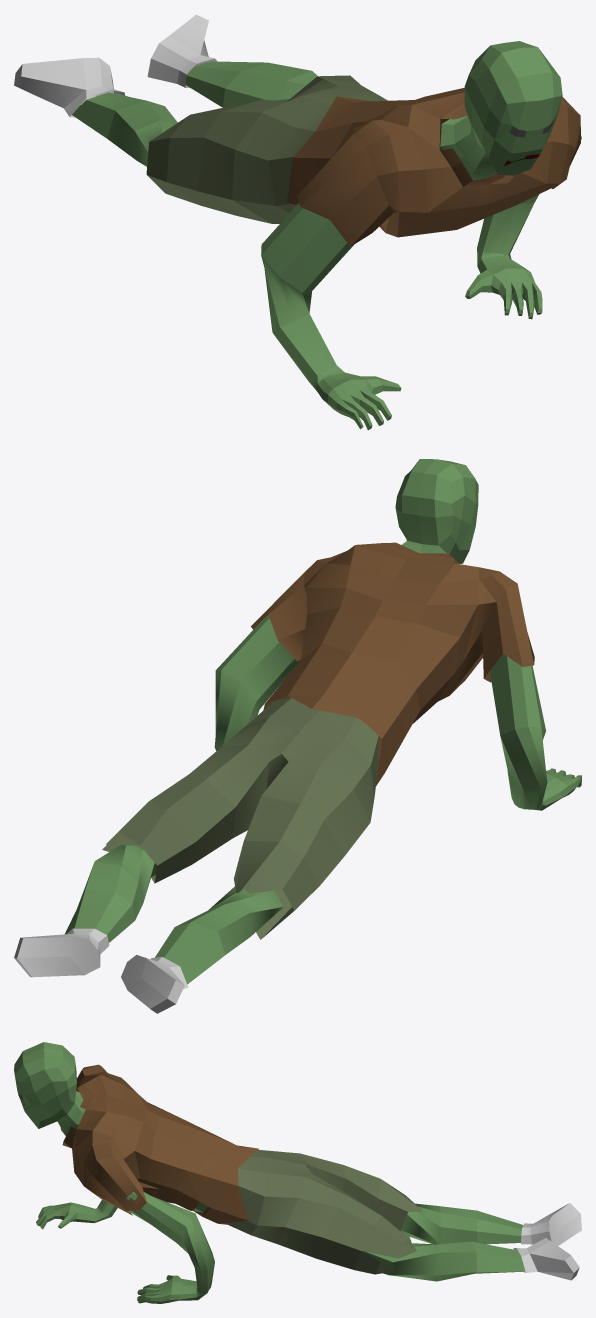
File: ZombieCrawl(39).obj
The picture shows the model from 3 angles, top to bottom: view 1: azimuth 30°, elevation 25°; view 2: azimuth 150°, elevation 25°; view 3: azimuth 270°, elevation 25°; orthographic projection. The views are drawn at different scales.
Parts seen in each view (by area): view 1: Object001; view 2: Object001; view 3: Object001.
Boxes of the visible parts, left/top/right/bottom form: Object001: left=14, top=14, right=581, bottom=430; Object001: left=14, top=459, right=581, bottom=1013; Object001: left=14, top=1042, right=581, bottom=1303.
Size of the model in its own units: 25.95 by 25.28 by 57.34.
